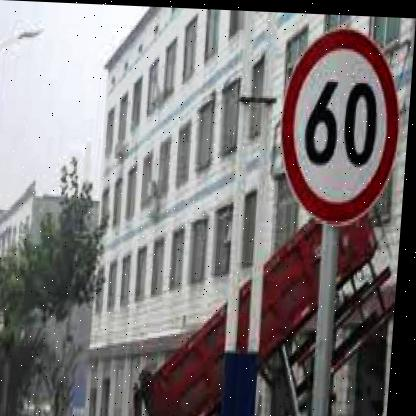Speed Limit -60-: (278, 25, 410, 223)
